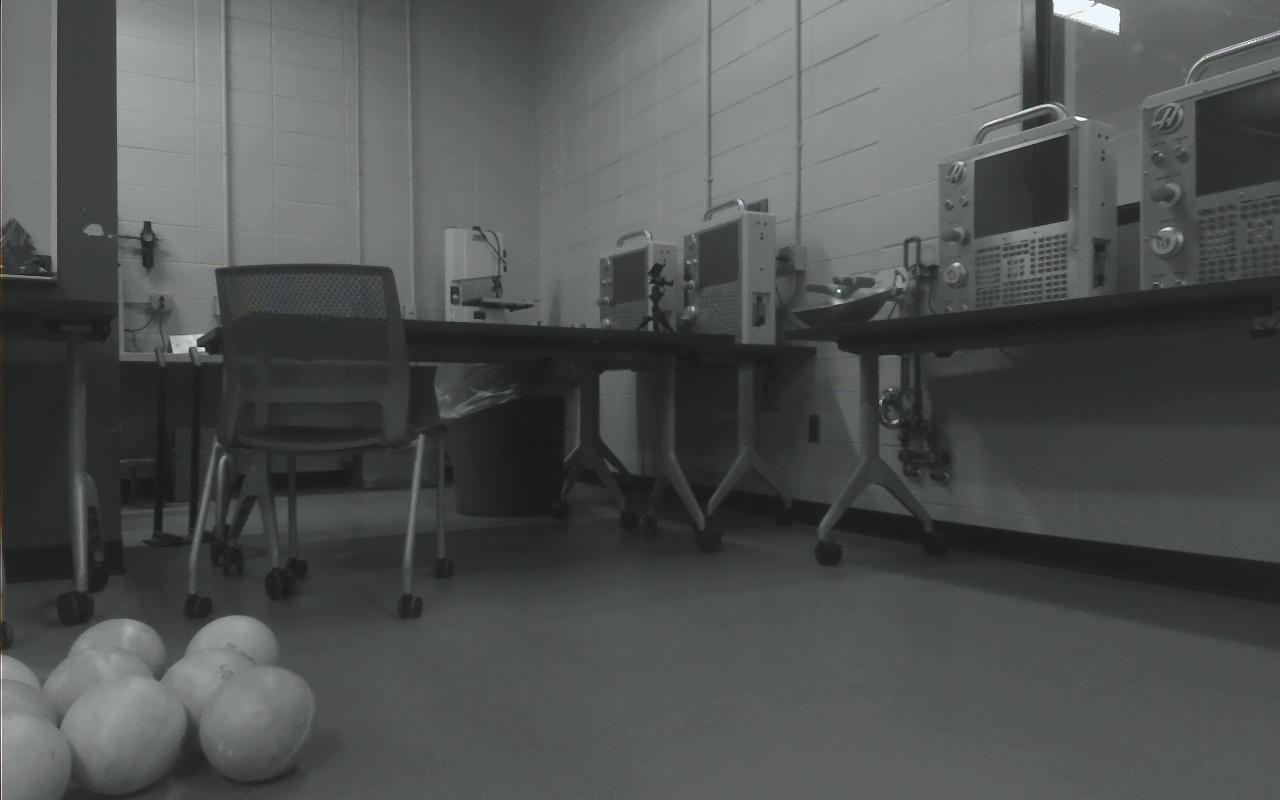Fuel: (61, 676, 187, 796), (198, 666, 315, 782), (161, 650, 261, 756), (44, 646, 155, 726), (1, 710, 72, 800), (67, 618, 166, 681), (183, 615, 280, 666), (1, 678, 58, 726), (1, 654, 42, 694)
